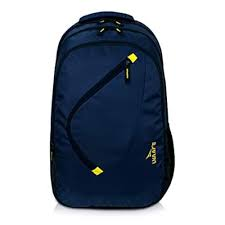backpack: (49, 10, 175, 209)
